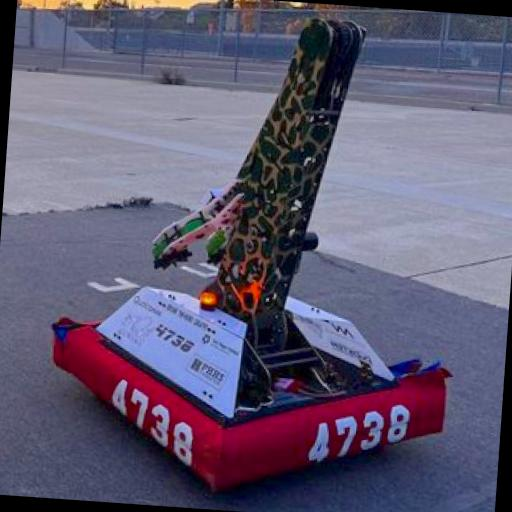robot: (36, 0, 480, 512)
